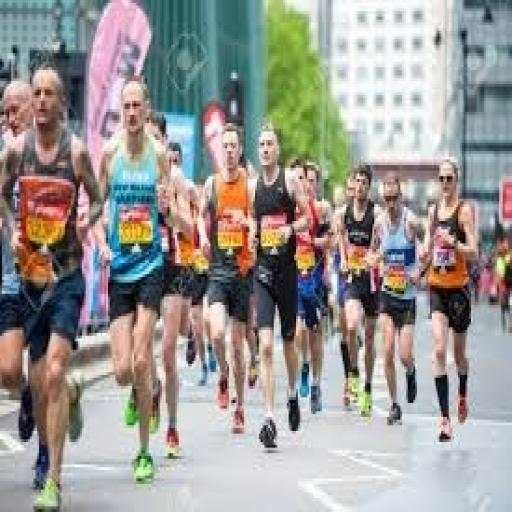running: (0, 59, 108, 509), (91, 75, 175, 487), (246, 120, 313, 450), (417, 154, 482, 445)
